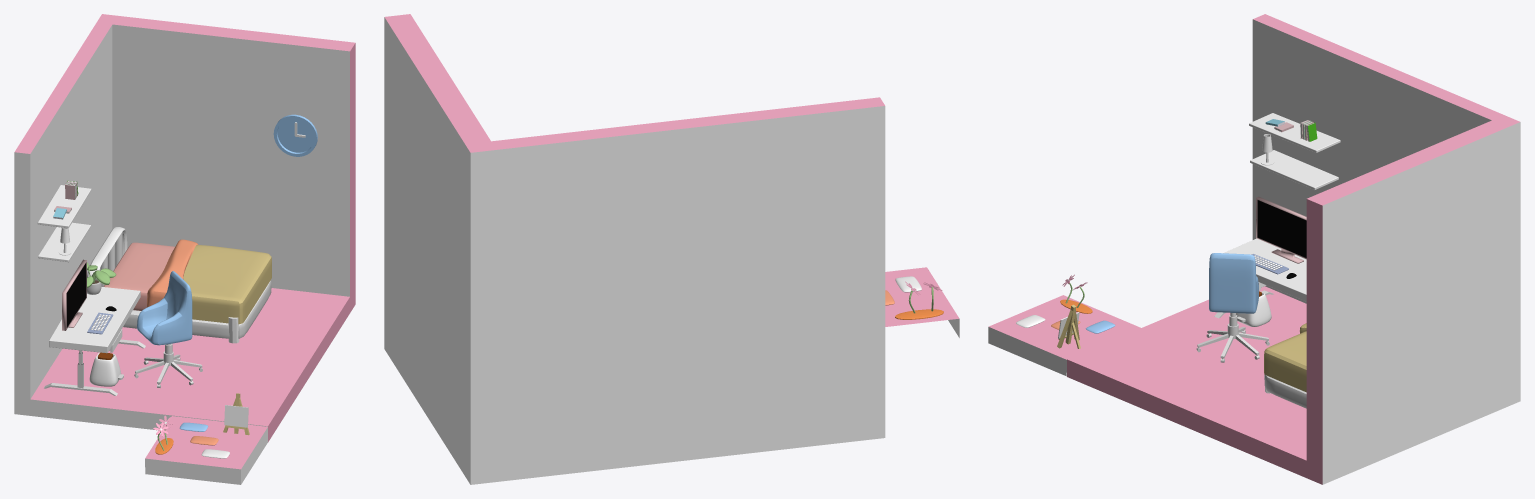
File: room2.glb
The picture shows the model from 3 angles, left to right: view 1: azimuth 30°, elevation 25°; view 2: azimuth 150°, elevation 25°; view 3: azimuth 270°, elevation 25°; orthographic projection. The views are drawn at different scales.
Parts seen in each view (by area): view 1: Cube.003, Cube.015, Cube.018, table-top, Cube.011, Cube.013, Cylinder.011, Cube.012, Cube.001, table-top.003, table-top.002, Cube.014 (+4 smaller); view 2: Cube.003, Cube.018; view 3: Cube.003, Cube.018, Cube.011, Cube.001, table-top, Cube.015, table-top.002, table-top.003, Cube.012, Cube.
Boxes of the visible parts, x1=… form: Cube.003: x1=14, y1=14, x2=355, y2=442; Cube.015: x1=146, y1=239, x2=271, y2=324; Cube.018: x1=145, y1=416, x2=267, y2=484; table-top: x1=49, y1=287, x2=140, y2=353; Cube.011: x1=137, y1=271, x2=192, y2=345; Cube.013: x1=103, y1=242, x2=174, y2=310; Cylinder.011: x1=273, y1=114, x2=317, y2=156; Cube.012: x1=123, y1=281, x2=271, y2=338; Cube.001: x1=62, y1=259, x2=86, y2=330; table-top.003: x1=37, y1=185, x2=91, y2=228; table-top.002: x1=38, y1=222, x2=90, y2=262; Cube.014: x1=87, y1=227, x2=239, y2=343; Cube.003: x1=384, y1=14, x2=885, y2=484; Cube.018: x1=885, y1=267, x2=959, y2=337; Cube.003: x1=1067, y1=14, x2=1520, y2=484; Cube.018: x1=988, y1=295, x2=1140, y2=376; Cube.011: x1=1209, y1=253, x2=1258, y2=313; Cube.001: x1=1256, y1=196, x2=1306, y2=263; table-top: x1=1223, y1=238, x2=1306, y2=301; Cube.015: x1=1264, y1=323, x2=1306, y2=392; table-top.002: x1=1250, y1=150, x2=1338, y2=189; table-top.003: x1=1249, y1=113, x2=1340, y2=152; Cube.012: x1=1264, y1=375, x2=1306, y2=408; Cube: x1=1236, y1=291, x2=1271, y2=326.
Size of the model in its own units: 18.94 by 12.88 by 22.23.
